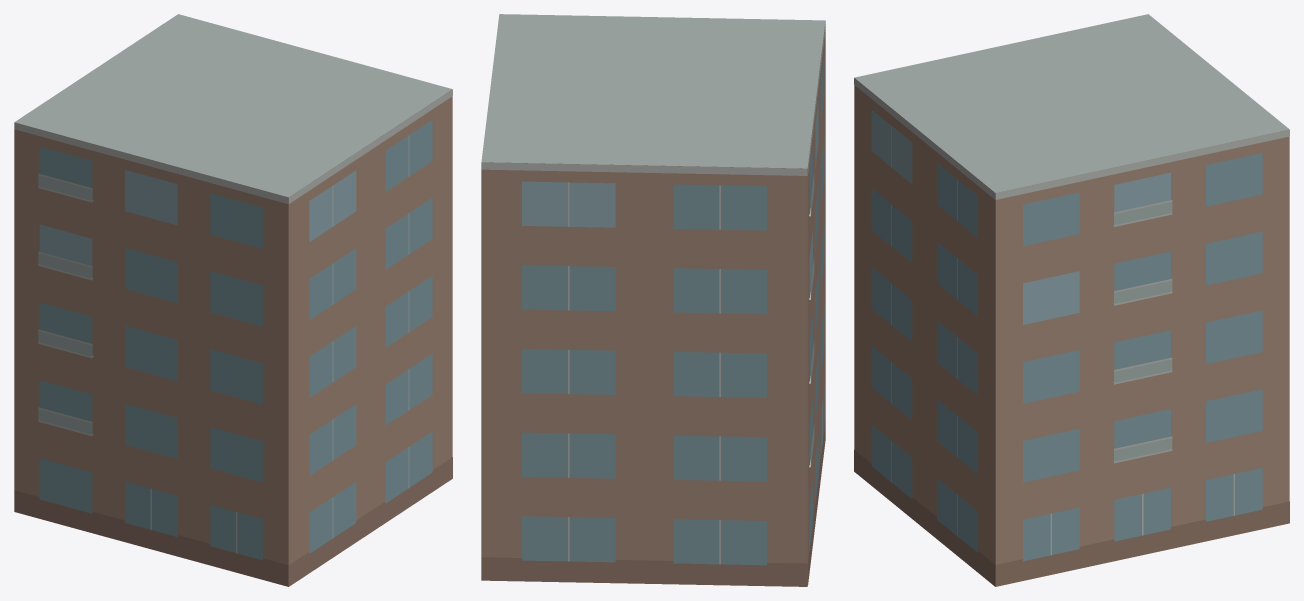
Rendered from survey-upis-32830168.glb.
3 renders of one model, left to right at view 1: azimuth 30°, elevation 25°; view 2: azimuth 150°, elevation 25°; view 3: azimuth 270°, elevation 25°, orthographic. The views are drawn at different scales.
Visible parts, largest first — view 1: survey-upis-32830168.tmp; view 2: survey-upis-32830168.tmp; view 3: survey-upis-32830168.tmp.
Part boxes in pixels (box(x1,y1,x2,y2)): survey-upis-32830168.tmp: box(14, 14, 452, 586); survey-upis-32830168.tmp: box(481, 14, 825, 586); survey-upis-32830168.tmp: box(854, 14, 1289, 586).
Size of the model in its own units: 13.36 by 13.7 by 13.74.
